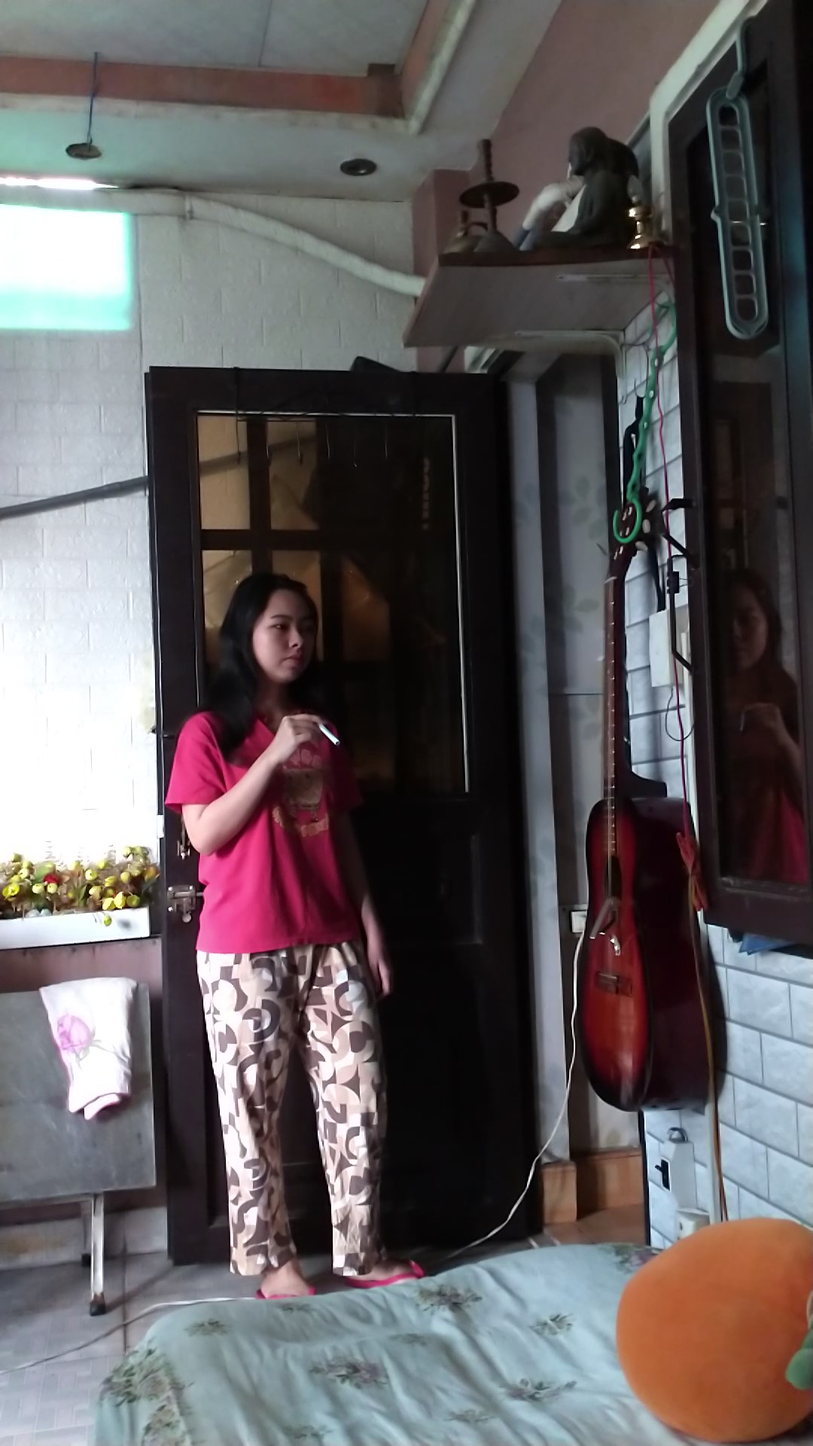cigarette: (314, 718, 343, 752)
person: (166, 556, 403, 1304)
